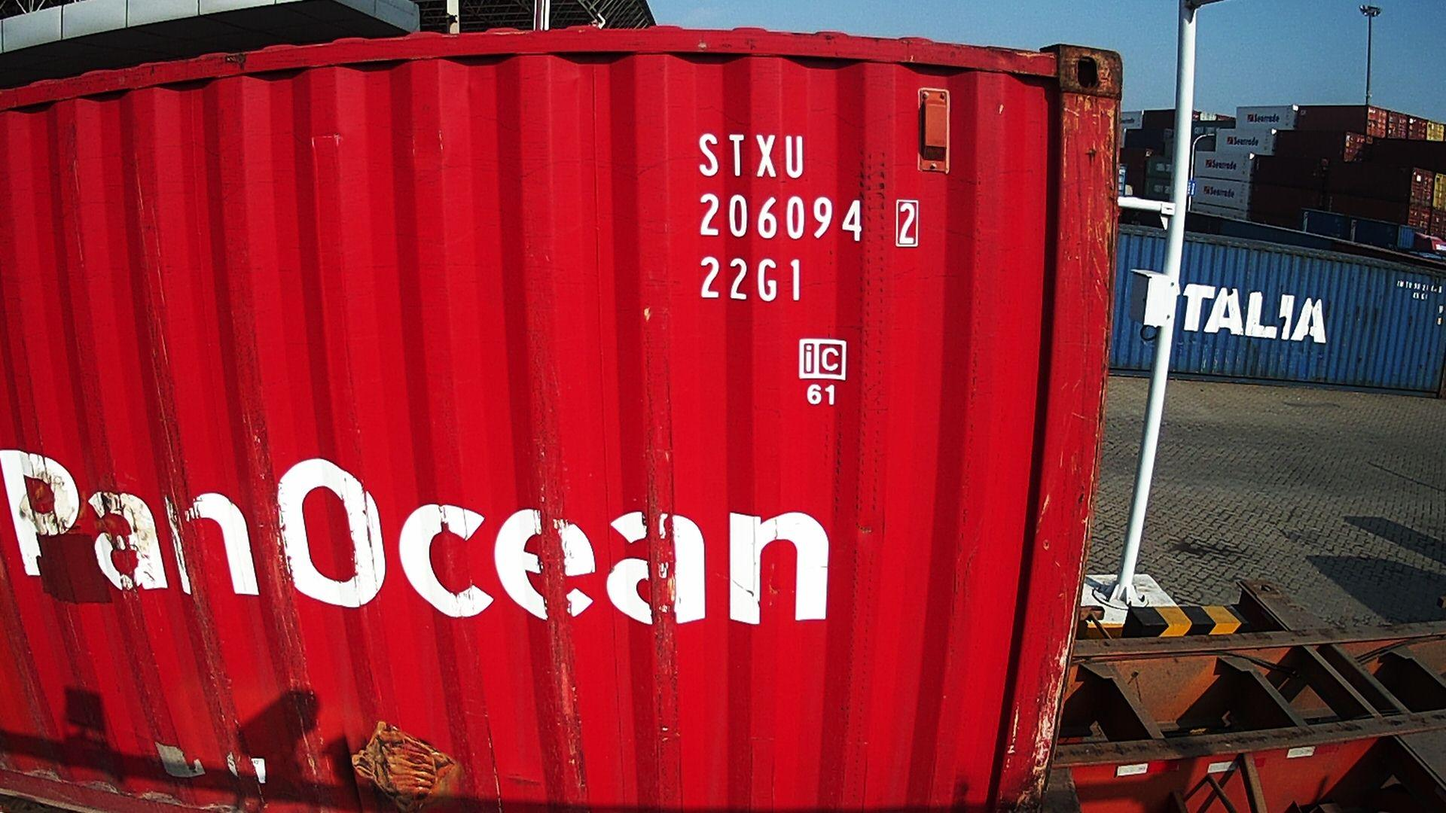container-numbers: (692, 190, 923, 248), (696, 129, 808, 183), (696, 254, 807, 307)
